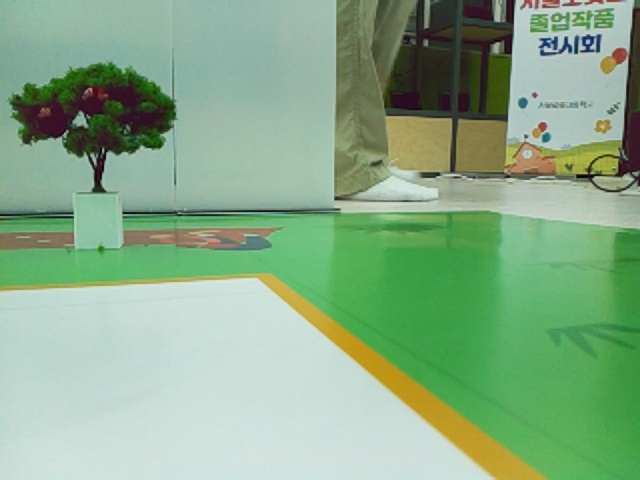apple: (84, 87, 105, 100), (613, 49, 626, 63)
